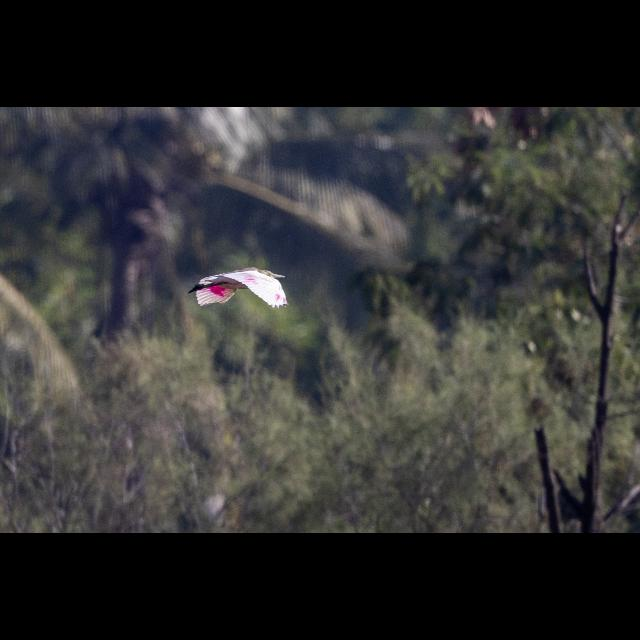heron: (186, 260, 290, 318)
